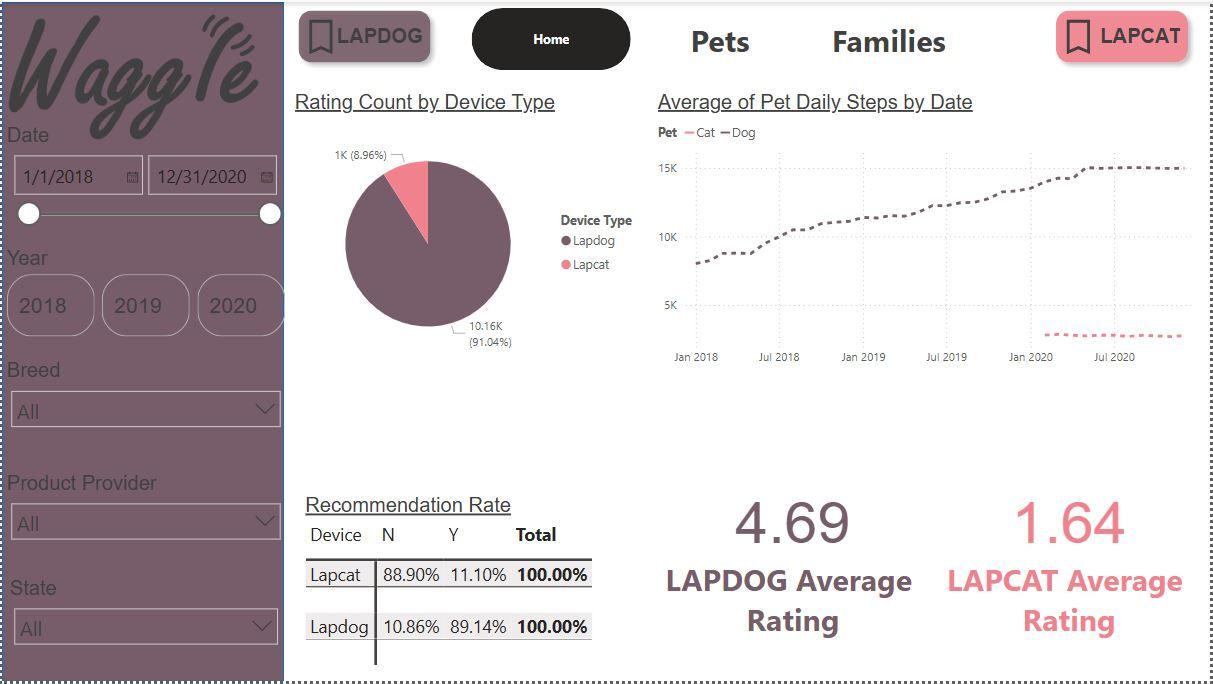

What the dashboard file says about the page in this screenshot:
{"tool":"powerbi","page":{"name":"Home","canvas":[1280,720],"ordinal":0},"visuals":[{"type":"shape","box":[0,0,299,720.5],"z":0},{"type":"lineChart","title":"Average of Pet Daily Steps by Date","fields":{"Y":["Avg(Tracker_Data.Daily_Steps)"],"Series":["Pet_Data.Dog/Cat"],"Category":["Date_Table.Date"]},"box":[690.3,93.8,590.1,300.6],"z":1000},{"type":"pieChart","fields":{"Category":["Rating_Data.Device_Type"],"Y":["Count(Rating_Data.Tracker_ID)"]},"box":[305.4,93.8,384.9,300.6],"z":2000},{"type":"card","title":"lapdog avg rate","fields":{"Values":["Rating_Data.Avg_rate Lapdog"]},"box":[690.3,415.1,295.9,305.4],"z":3000},{"type":"card","title":"LAPCAT Average rating","fields":{"Values":["Rating_Data.Avg_rate Lapcat"]},"box":[984.7,415.3,293.2,305.1],"z":4000},{"type":"pivotTable","title":"Recommendation Rate ","fields":{"Rows":["Rating_Data.Device_Type"],"Values":["Divide(CountNonNull(Rating_Data.Would You Recommend this Product?), ScopedEval(CountNonNull(Rating_Data.Would You Recomm"],"Columns":["Rating_Data.Would You Recommend this Product?"]},"box":[316.5,521.7,373.8,198.8],"z":5000},{"type":"advancedSlicerVisual","fields":{"Values":["Date_Table.Year"]},"box":[0,259.3,305.4,100.2],"z":6000},{"type":"slicer","title":"Breed","fields":{"Values":["Pet_Data.Breed"]},"box":[0,378.6,305.4,87.5],"z":7000},{"type":"slicer","title":"Date","fields":{"Values":["Date_Table.Date"]},"box":[0,128.8,305.4,132],"z":8000},{"type":"slicer","title":"Product Provider","fields":{"Values":["Rating_Data.Where Did You Buy This Product?"]},"box":[0,497.9,305.4,100.2],"z":9000},{"type":"pageNavigator","box":[498.3,6.8,527.1,66.1],"z":12000},{"type":"image","box":[0,0,276.8,157.5],"z":13000},{"type":"slicer","title":"State","fields":{"Values":["Family_Data.State"]},"box":[3.2,609.2,299,87.5],"z":14000},{"type":"actionButton","title":"LAPCAT","box":[1108.7,0,158,73.2],"z":14001},{"type":"actionButton","title":"LAPCAT","box":[305.4,0,158,73.2],"z":14002}]}

Visuals, with their boxes in screenshot pixels (x1, y1, x2, y2), scaled from the page's 1280x720 canvas onto the 1213x684 screenshot:
shape: bbox(0, 0, 283, 683)
"Average of Pet Daily Steps by Date" lineChart: bbox(654, 89, 1212, 375)
pieChart - Rating_Data.Device_Type x Count(Rating_Data.Tracker_ID): bbox(289, 89, 654, 375)
"lapdog avg rate" card: bbox(654, 394, 935, 683)
"LAPCAT Average rating" card: bbox(933, 395, 1211, 683)
"Recommendation Rate " pivotTable: bbox(300, 496, 654, 683)
advancedSlicerVisual - Date_Table.Year: bbox(0, 246, 289, 342)
"Breed" slicer: bbox(0, 360, 289, 443)
"Date" slicer: bbox(0, 122, 289, 248)
"Product Provider" slicer: bbox(0, 473, 289, 568)
pageNavigator: bbox(472, 6, 972, 69)
image: bbox(0, 0, 262, 150)
"State" slicer: bbox(3, 579, 286, 662)
"LAPCAT" actionButton: bbox(1051, 0, 1200, 70)
"LAPCAT" actionButton: bbox(289, 0, 439, 70)
